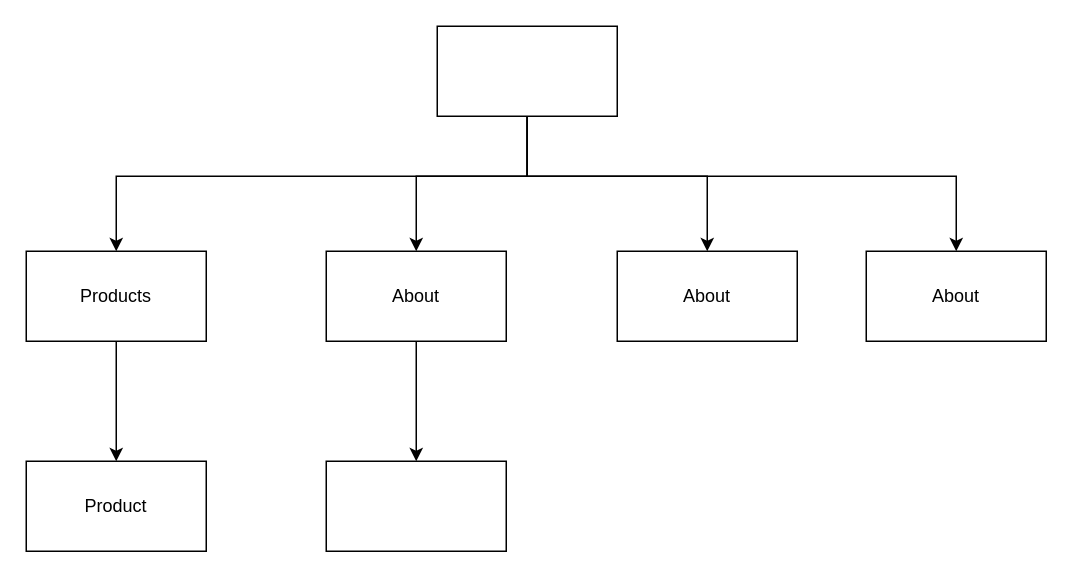
Some shapes in this 1073 by 578 pixel diagram are drawn without their labels. The shapes that lost their labels are listed below. From the top down, each one's centre as x and y in pixels, then its label:
(526,70): Home
(415,505): Crew
